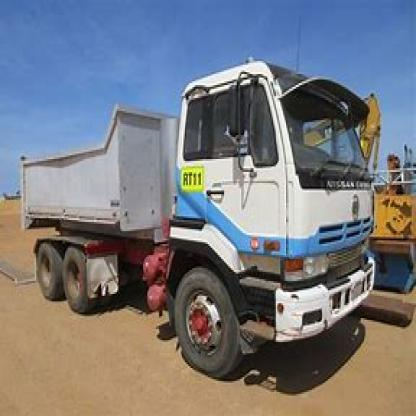dump_truck: (10, 48, 380, 381)
